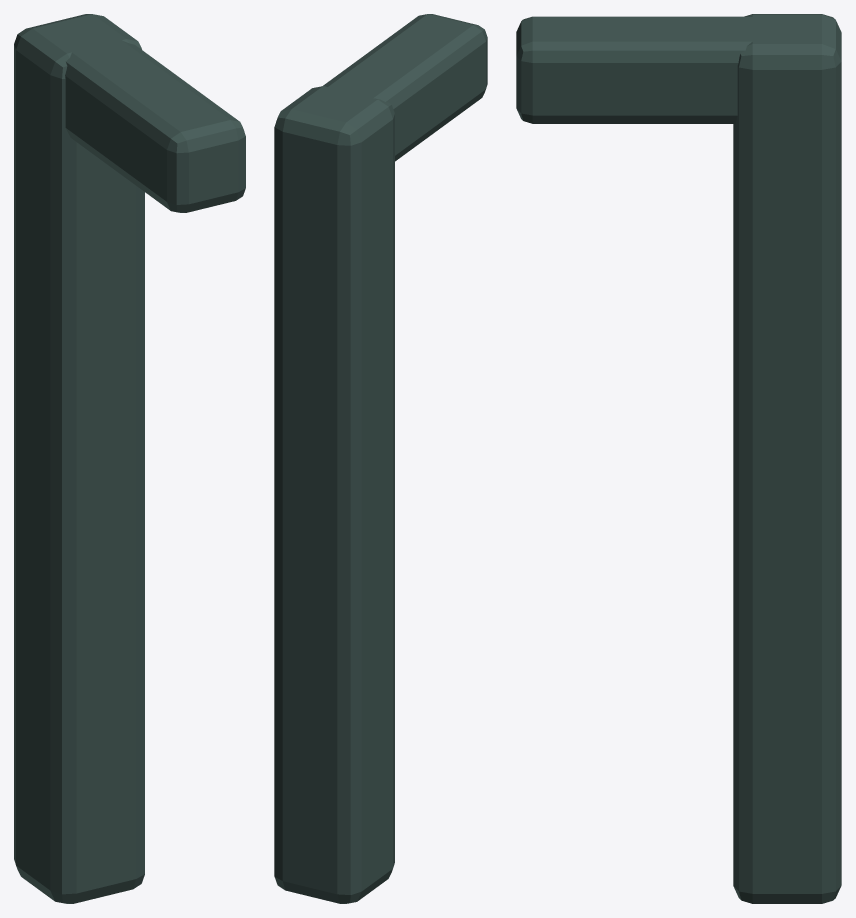
File: SM_WaterTap.fbx
3 views of the same model, side by side, from view 1: azimuth 30°, elevation 25°; view 2: azimuth 150°, elevation 25°; view 3: azimuth 270°, elevation 25° (orthographic). The views are drawn at different scales.
Visible parts, largest first — view 1: SM_WaterTap; view 2: SM_WaterTap; view 3: SM_WaterTap.
Part boxes in pixels (x1,y1,x2,y2): SM_WaterTap: (14,14,245,903); SM_WaterTap: (274,14,487,903); SM_WaterTap: (516,14,841,903).
Size of the model in its own units: 12 by 36 by 105.
